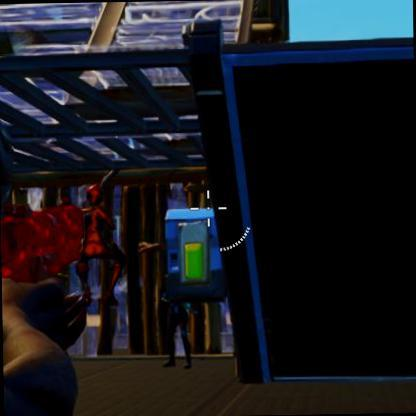person: (74, 182, 129, 298), (161, 300, 193, 371)
